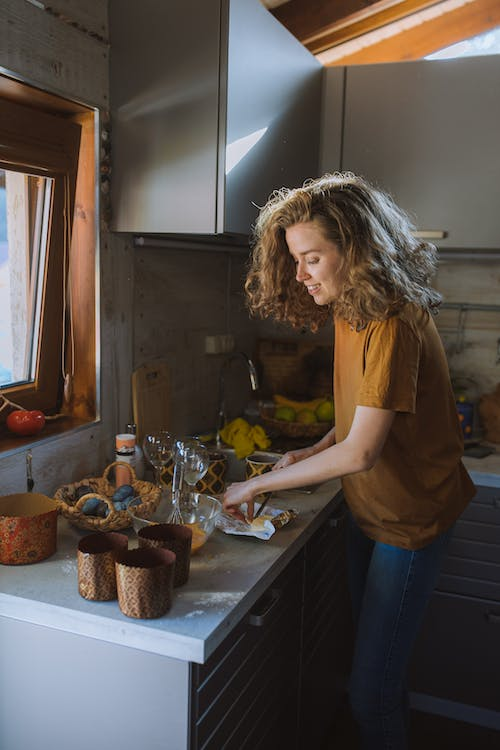knife: (252, 491, 273, 522)
